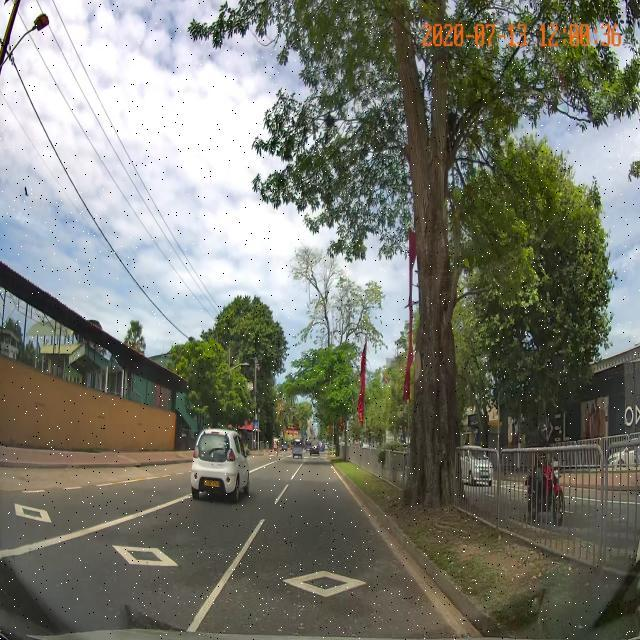diamond: (195, 520, 464, 635)
